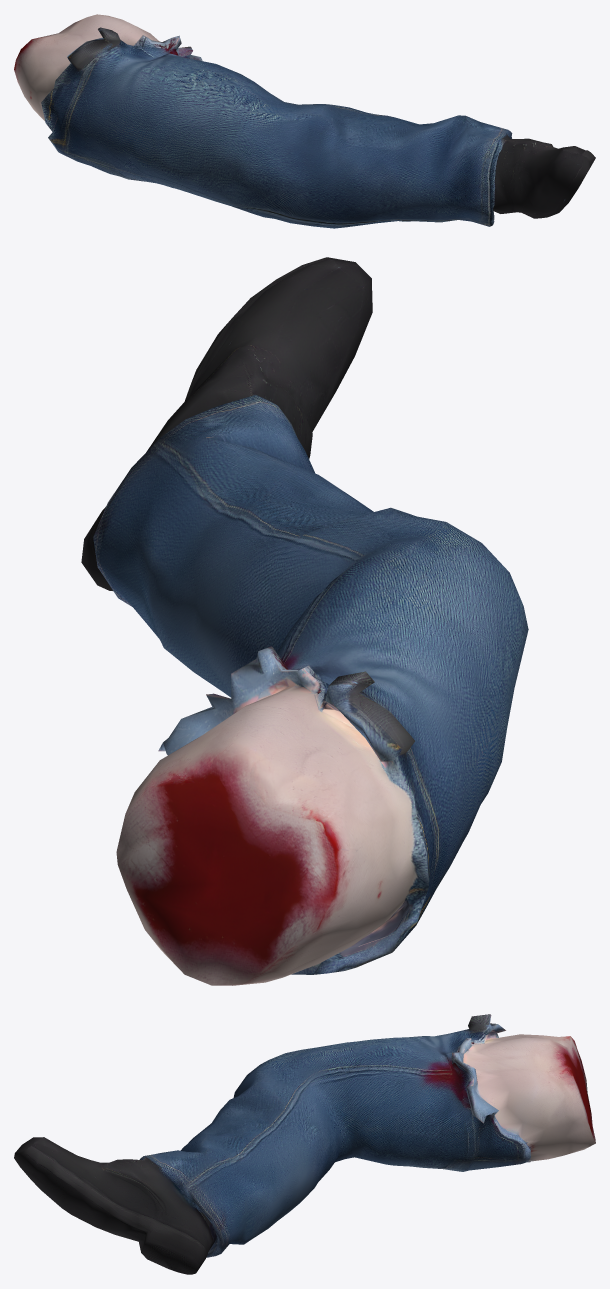
The model's file is leg.obj.
The picture shows the model from 3 angles, top to bottom: view 1: azimuth 30°, elevation 25°; view 2: azimuth 150°, elevation 25°; view 3: azimuth 270°, elevation 25°; orthographic projection. The views are drawn at different scales.
Visible parts, largest first — view 1: Meshy_AI_Donogans_severed_leg_0420163227_texture; view 2: Meshy_AI_Donogans_severed_leg_0420163227_texture; view 3: Meshy_AI_Donogans_severed_leg_0420163227_texture.
Part boxes in pixels (x1,y1,x2,y2): Meshy_AI_Donogans_severed_leg_0420163227_texture: (14,14,595,228); Meshy_AI_Donogans_severed_leg_0420163227_texture: (81,257,528,985); Meshy_AI_Donogans_severed_leg_0420163227_texture: (14,1014,595,1274).
Bounding box in the file's own units: 1.25 × 0.4962 × 1.92.
